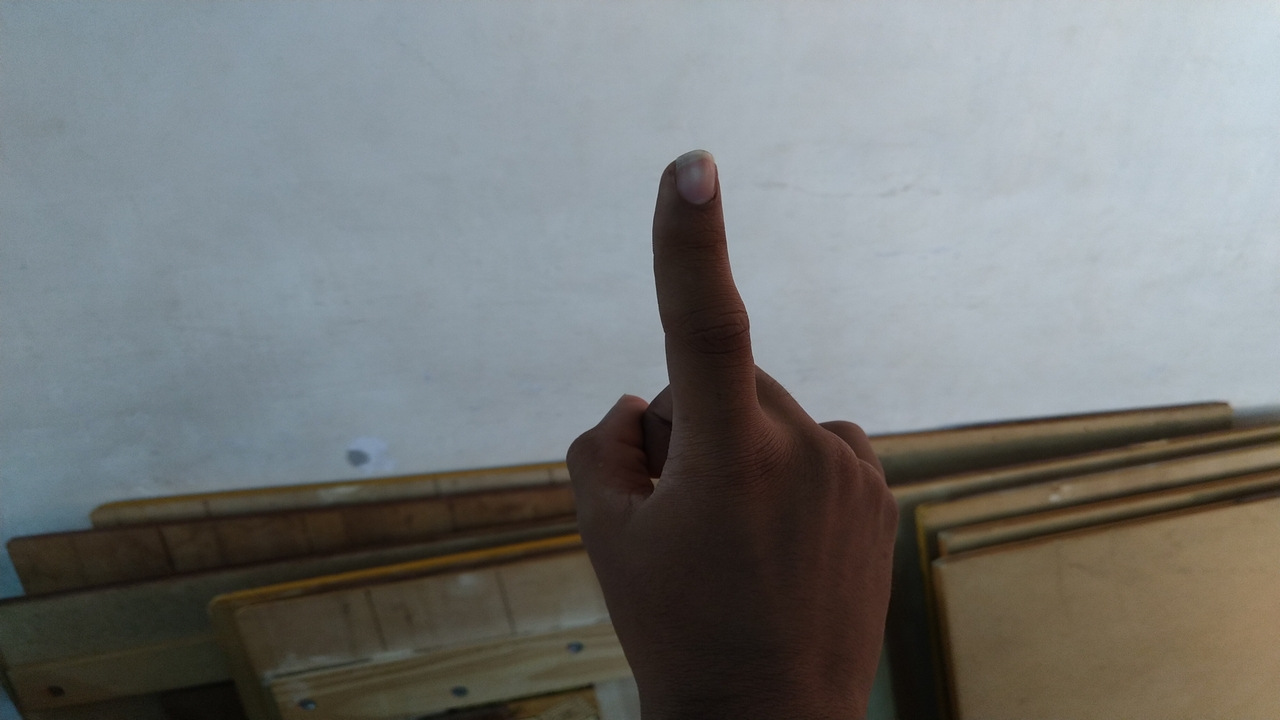fingertip: (660, 146, 728, 212)
